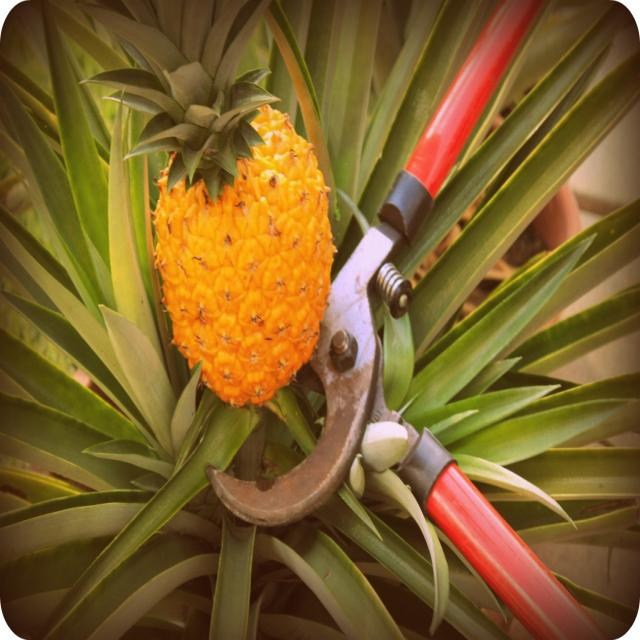pineapple: (130, 69, 336, 408)
